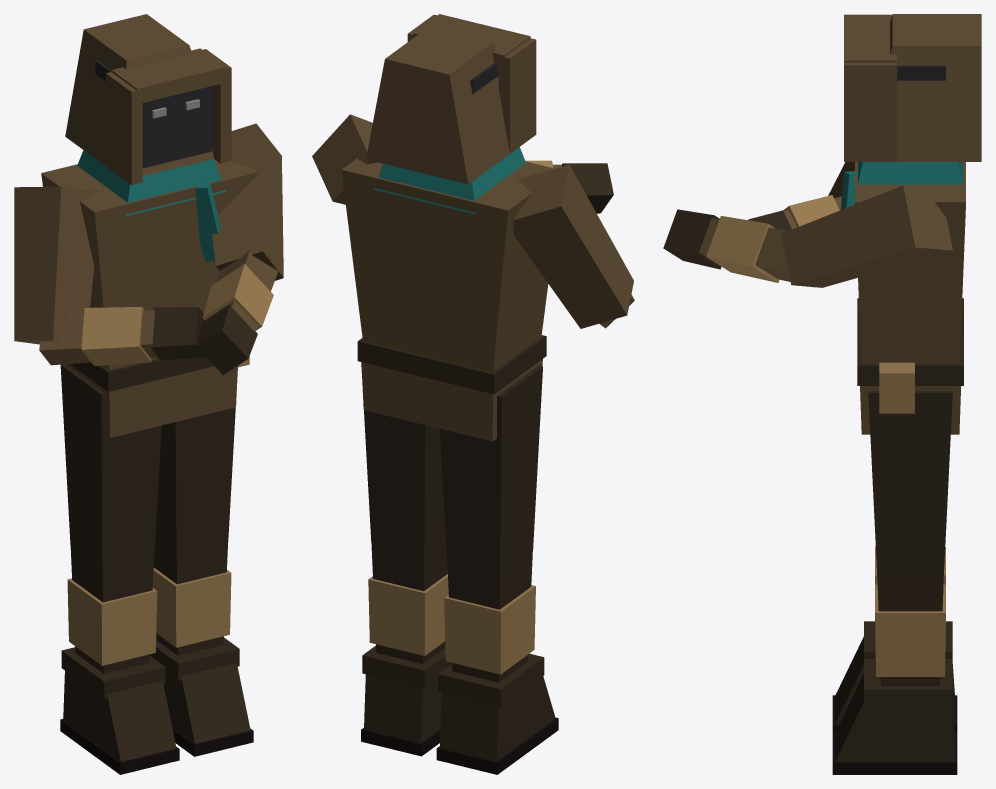
Rendered from striker.glb.
3 views of the same model, side by side, from view 1: azimuth 30°, elevation 25°; view 2: azimuth 150°, elevation 25°; view 3: azimuth 270°, elevation 25° (orthographic). The views are drawn at different scales.
Visible parts, largest first — view 1: torso, head, leg_r_lower, leg_l_lower, leg_r, arm_r, leg_l, arm_r_lower, arm_l, arm_l_lower; view 2: torso, head, leg_r_lower, leg_l_lower, leg_r, arm_r, leg_l, arm_l, arm_l_lower; view 3: head, torso, leg_l_lower, leg_l, arm_l, arm_l_lower, leg_r_lower, arm_r_lower.
Part boxes in pixels (x1,y1,x2,y2): torso: [41, 150, 257, 437]; head: [65, 14, 231, 184]; leg_r_lower: [60, 545, 179, 774]; leg_l_lower: [150, 535, 253, 756]; leg_r: [60, 364, 161, 568]; arm_r: [14, 186, 97, 344]; leg_l: [155, 369, 237, 550]; arm_r_lower: [39, 306, 205, 365]; arm_l: [212, 123, 283, 280]; arm_l_lower: [197, 249, 278, 374]; torso: [341, 147, 554, 441]; head: [366, 14, 536, 184]; leg_r_lower: [436, 551, 558, 774]; leg_l_lower: [361, 541, 451, 756]; leg_r: [439, 365, 542, 574]; arm_r: [513, 164, 633, 328]; leg_l: [361, 365, 445, 556]; arm_l: [312, 114, 377, 204]; arm_l_lower: [525, 160, 613, 213]; head: [844, 14, 981, 161]; torso: [840, 162, 965, 434]; leg_l_lower: [832, 575, 957, 774]; leg_l: [868, 391, 952, 575]; arm_l: [781, 185, 952, 287]; arm_l_lower: [663, 209, 790, 282]; leg_r_lower: [832, 547, 957, 732]; arm_r_lower: [748, 195, 841, 230].
Size of the model in its own units: 0.7768 by 1.76 by 0.7162.
